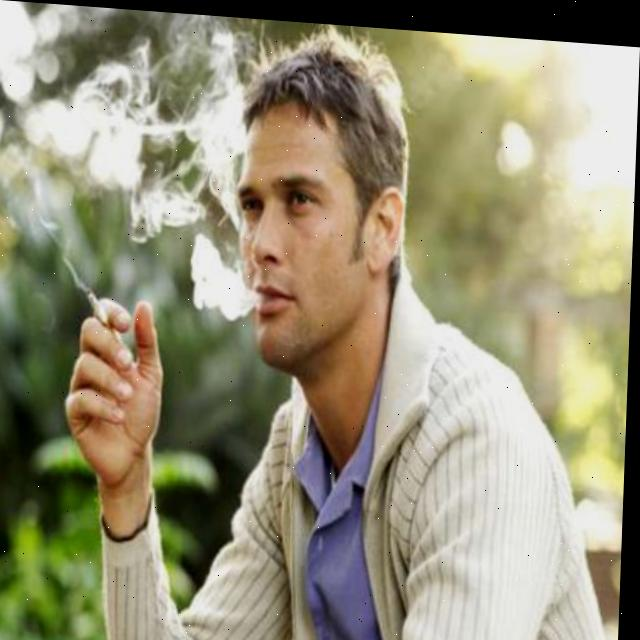cigarette: (87, 288, 117, 331)
